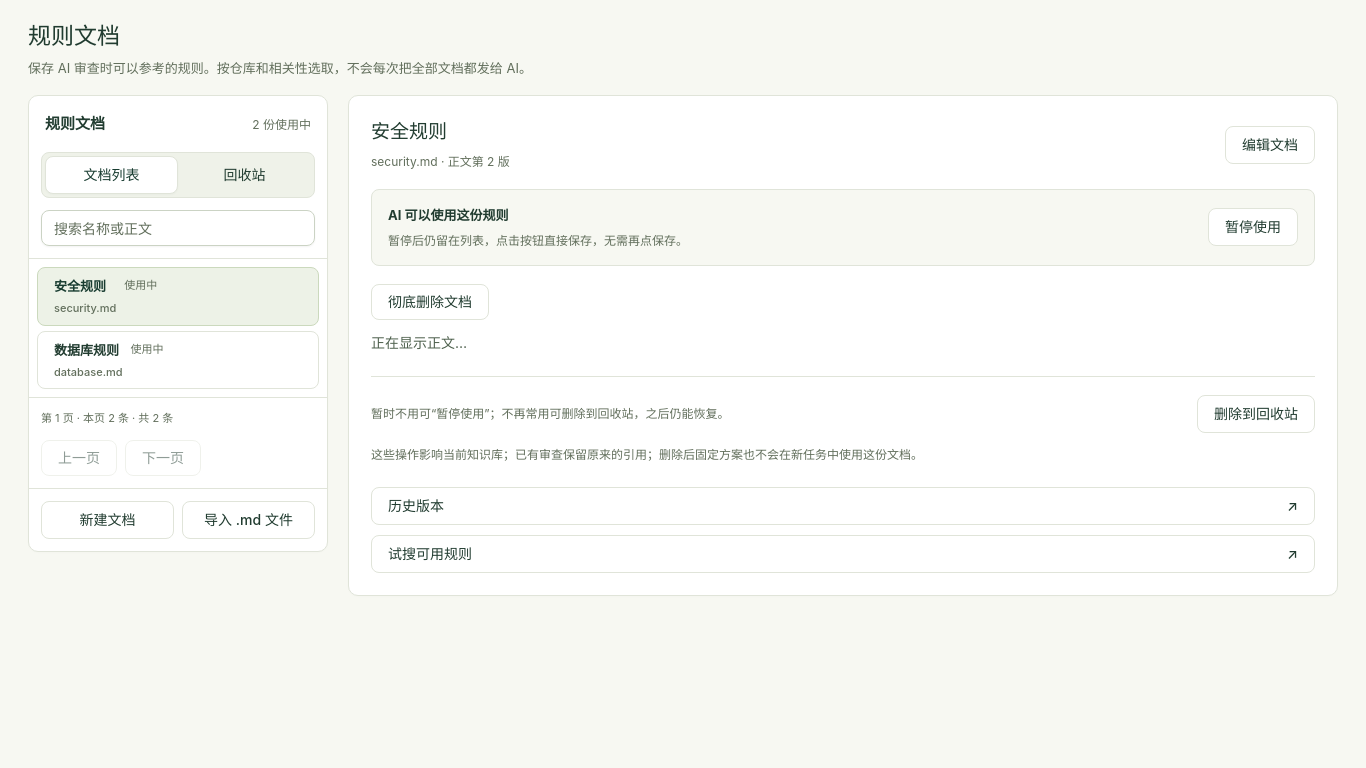
Test: 移出后保留撤销入口，一次操作恢复原来的使用状态
Expected: the button "暂停使用" is shown, [1208,208,1298,246]
Click the button "删除到回收站" at (1256, 414), box [1197,395,1315,433]
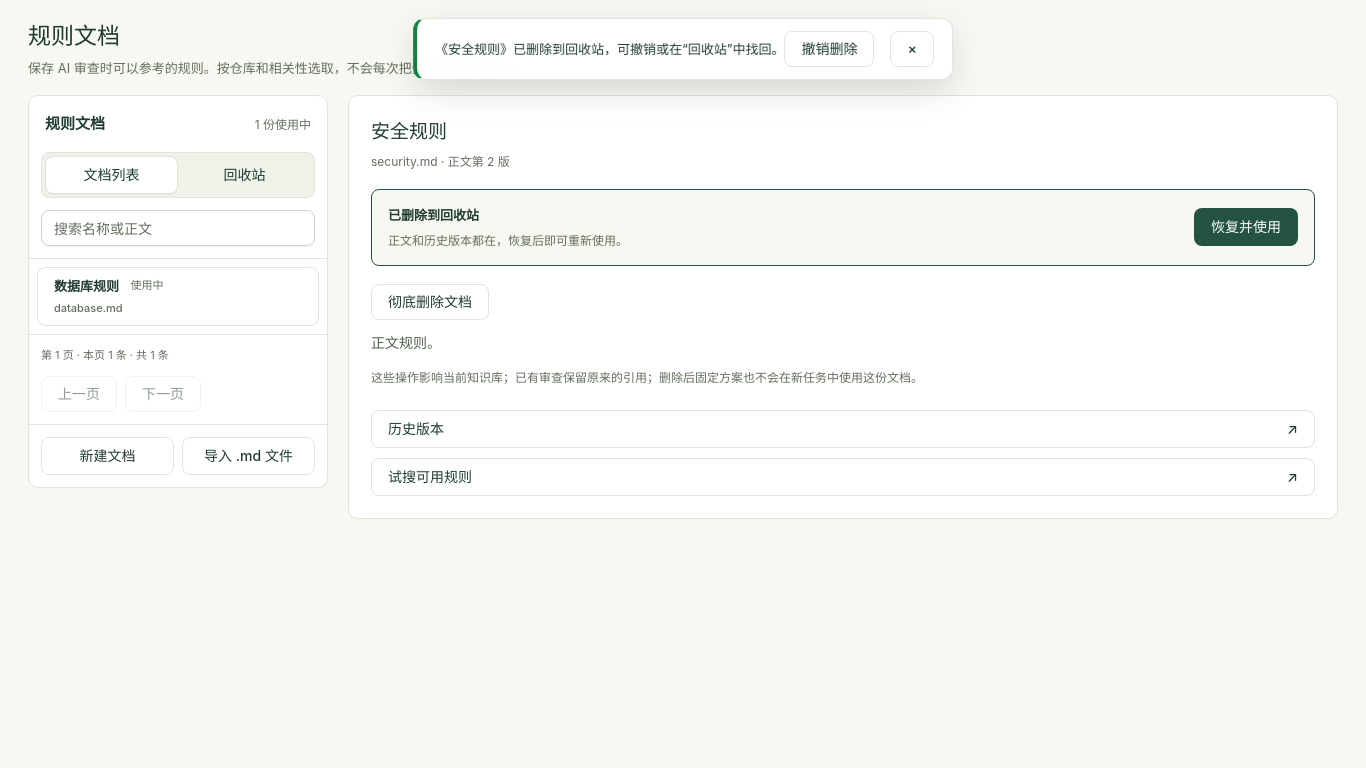
Now the button "撤销删除" is enabled
Click the button "撤销删除" at (830, 49), box [784,31,874,67]
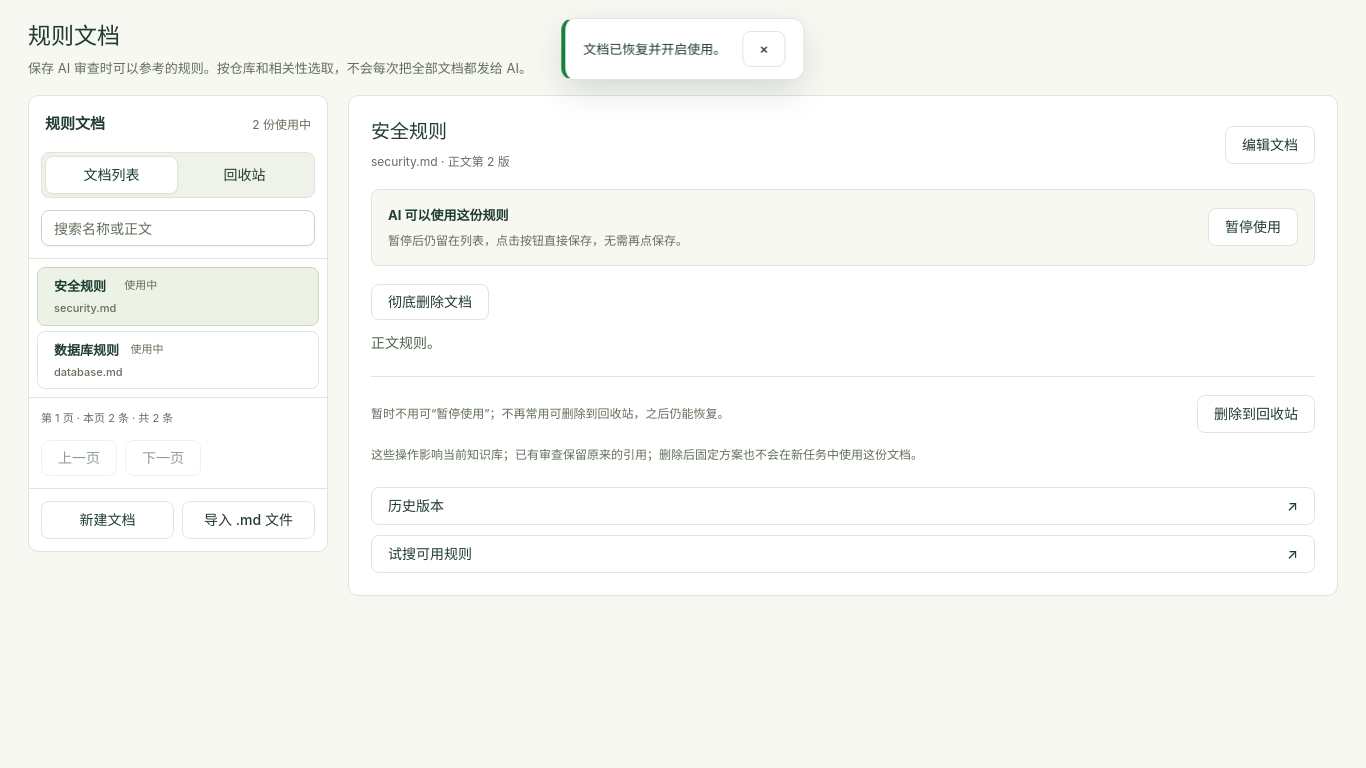
Now the text "文档已恢复并开启使用。" is shown, box [583,38,726,60]
